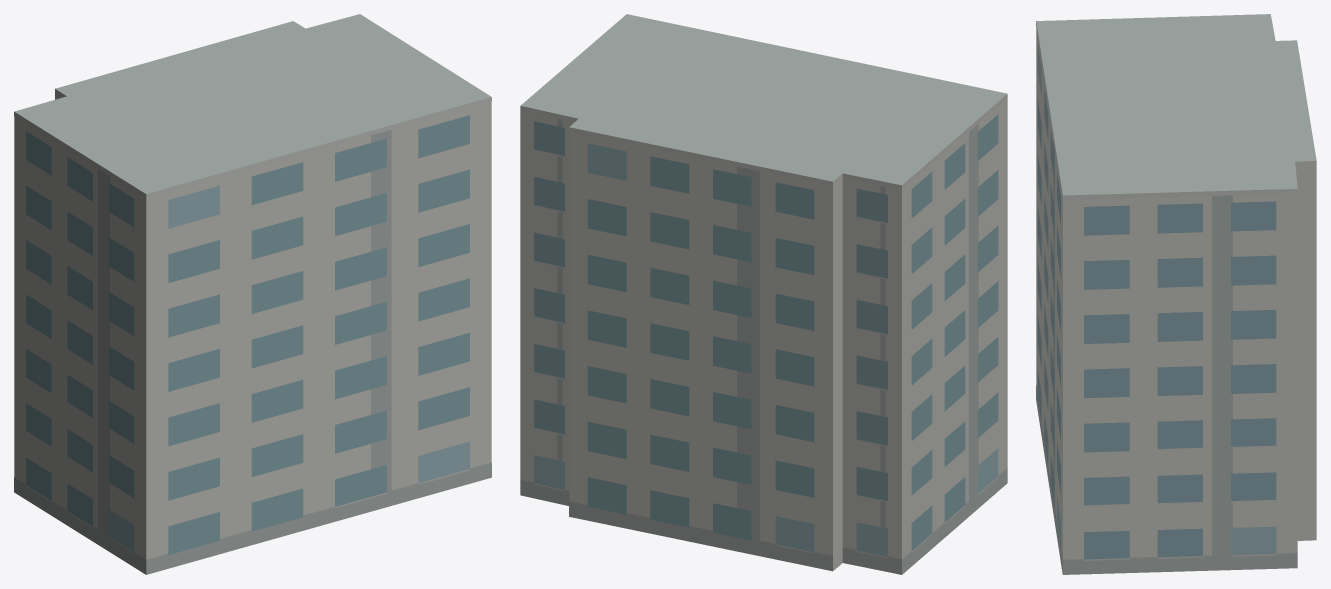
File: survey-upis-32698593.glb
3 renders of one model, left to right at view 1: azimuth 30°, elevation 25°; view 2: azimuth 150°, elevation 25°; view 3: azimuth 270°, elevation 25°, orthographic. The views are drawn at different scales.
Parts seen in each view (by area): view 1: survey-upis-32698593.tmp; view 2: survey-upis-32698593.tmp; view 3: survey-upis-32698593.tmp.
Boxes of the visible parts, x1,y1,x2,y2 form: survey-upis-32698593.tmp: (14,14,491,574); survey-upis-32698593.tmp: (520,14,1007,574); survey-upis-32698593.tmp: (1036,14,1316,574).
Size of the model in its own units: 20.64 by 20.1 by 13.48.
